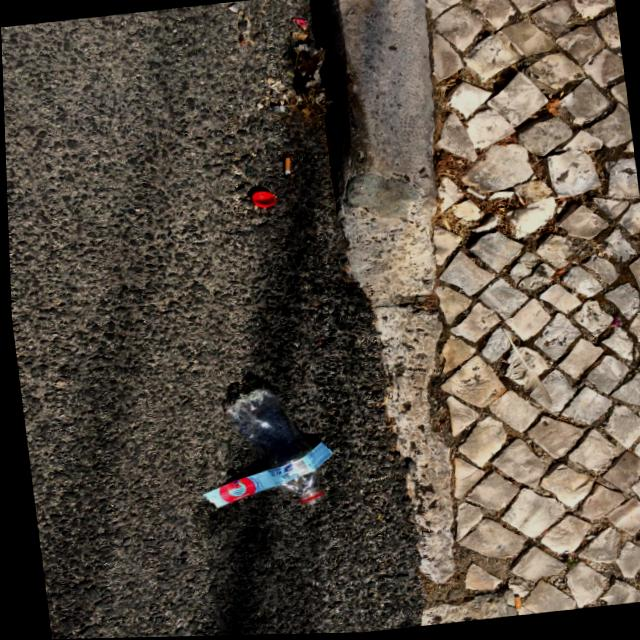anorganik: (209, 367, 336, 526)
